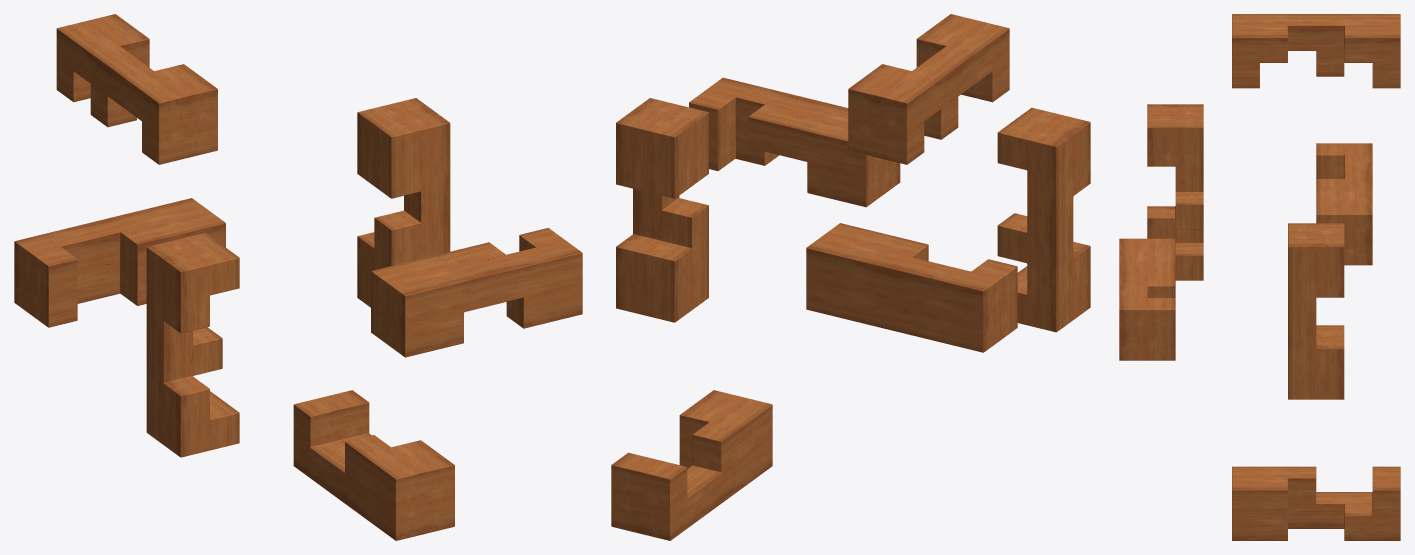
Rendered from puzzle.glb.
3 renders of one model, left to right at view 1: azimuth 30°, elevation 25°; view 2: azimuth 150°, elevation 25°; view 3: azimuth 270°, elevation 25°, orthographic. The views are drawn at different scales.
Parts seen in each view (by area): view 1: 3DGeom~148, 3DGeom~462, 3DGeom~75, 3DGeom~365, 3DGeom~268, 3DGeom~217; view 2: 3DGeom~268, 3DGeom~217, 3DGeom~462, 3DGeom~365, 3DGeom~75, 3DGeom~148; view 3: 3DGeom~75, 3DGeom~365, 3DGeom~217, 3DGeom~462, 3DGeom~148, 3DGeom~268.
Part boxes in pixels (x1,y1,x2,y2): 3DGeom~148: (371,228,582,357); 3DGeom~462: (146,233,239,457); 3DGeom~75: (293,390,454,540); 3DGeom~365: (56,14,217,164); 3DGeom~268: (14,198,225,327); 3DGeom~217: (357,98,450,307); 3DGeom~268: (806,223,1017,352); 3DGeom~217: (616,98,708,322); 3DGeom~462: (997,107,1090,332); 3DGeom~365: (848,14,1009,164); 3DGeom~75: (611,390,772,540); 3DGeom~148: (689,77,900,207); 3DGeom~75: (1232,466,1400,540); 3DGeom~365: (1232,14,1400,88); 3DGeom~217: (1288,223,1344,399); 3DGeom~462: (1147,104,1203,280); 3DGeom~148: (1119,238,1175,360); 3DGeom~268: (1316,143,1372,265).
Bounding box in the file's own units: 0.7875 × 0.9 × 0.5625.
6 materials, 6 textured.
